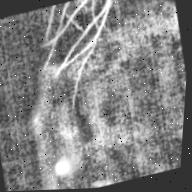boar: (12, 0, 192, 191)
